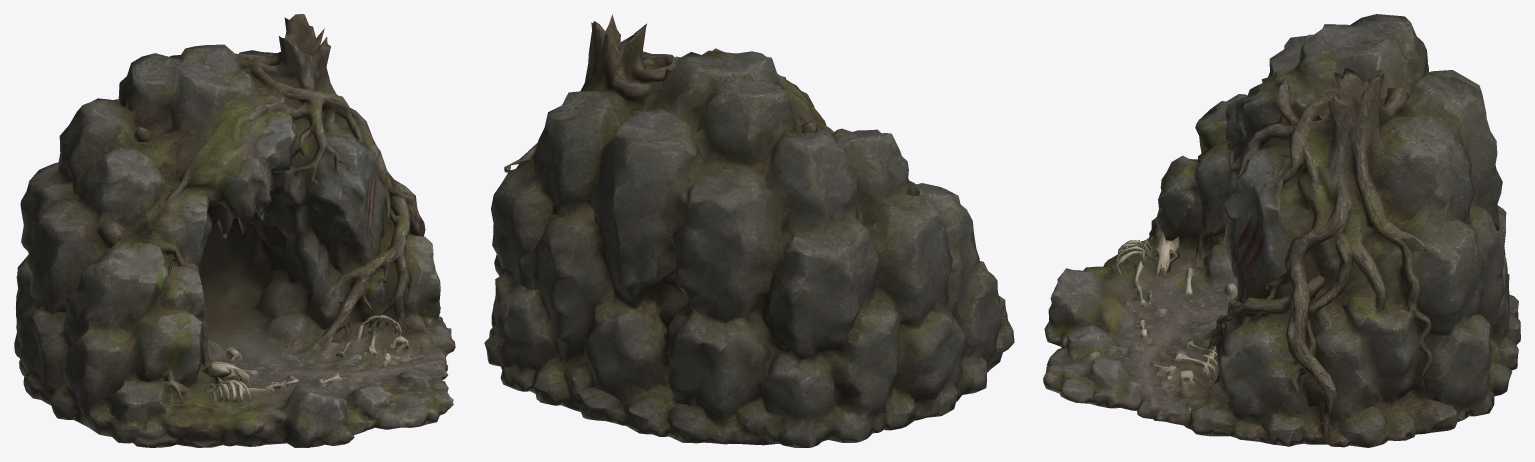
The model's file is t951_wolf_cave.glb.
The picture shows the model from 3 angles, left to right: view 1: azimuth 30°, elevation 25°; view 2: azimuth 150°, elevation 25°; view 3: azimuth 270°, elevation 25°; orthographic projection. The views are drawn at different scales.
Visible parts, largest first — view 1: tripo_node_e8bb0a7c-f3eb-4b17-905c-c6b85082a9a8; view 2: tripo_node_e8bb0a7c-f3eb-4b17-905c-c6b85082a9a8; view 3: tripo_node_e8bb0a7c-f3eb-4b17-905c-c6b85082a9a8.
Part boxes in pixels (x1,y1,x2,y2): tripo_node_e8bb0a7c-f3eb-4b17-905c-c6b85082a9a8: (14, 14, 455, 447); tripo_node_e8bb0a7c-f3eb-4b17-905c-c6b85082a9a8: (484, 14, 1014, 447); tripo_node_e8bb0a7c-f3eb-4b17-905c-c6b85082a9a8: (1043, 14, 1520, 447).
Size of the model in its own units: 0.9797 by 0.6961 by 0.9434.
Materials: 1 (1 with a texture image).
